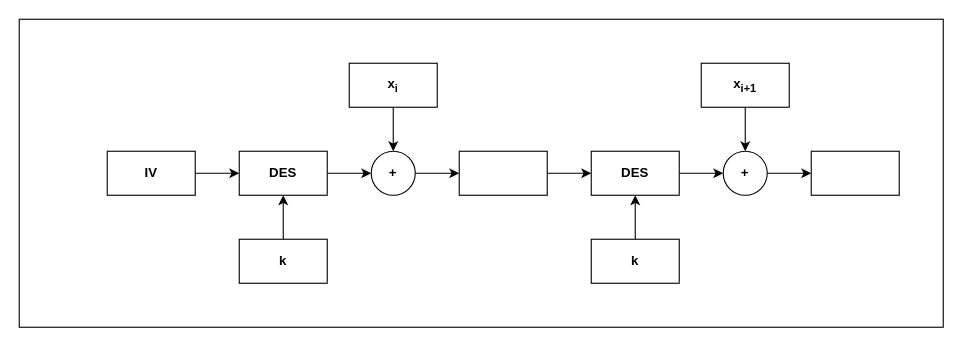
The diagram is 963 pixels wide and 347 high, and some of its shapes have lost their labels. Here are the shapes that lost their labels. From the top down, the centre of each, then its label:
At pixel 502 172: "y i".
At pixel 854 172: "y i+1".
